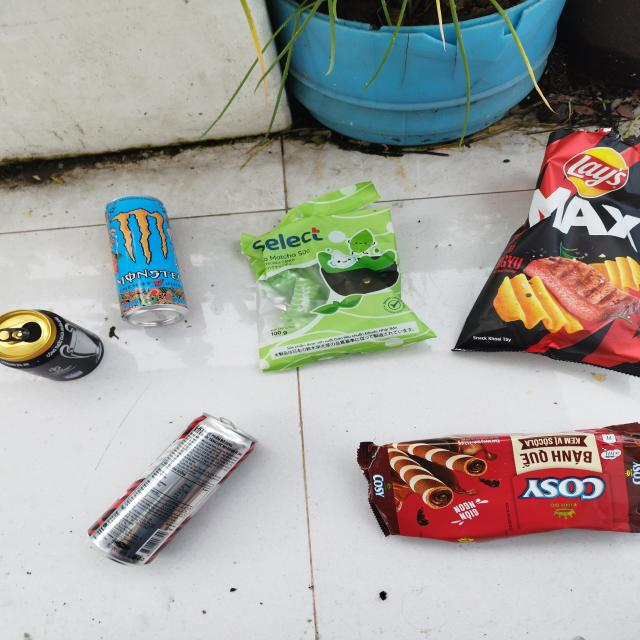can: (85, 412, 259, 566), (106, 195, 189, 327), (0, 309, 106, 383)
snack package: (452, 129, 640, 379), (243, 182, 437, 372), (356, 422, 640, 545)
